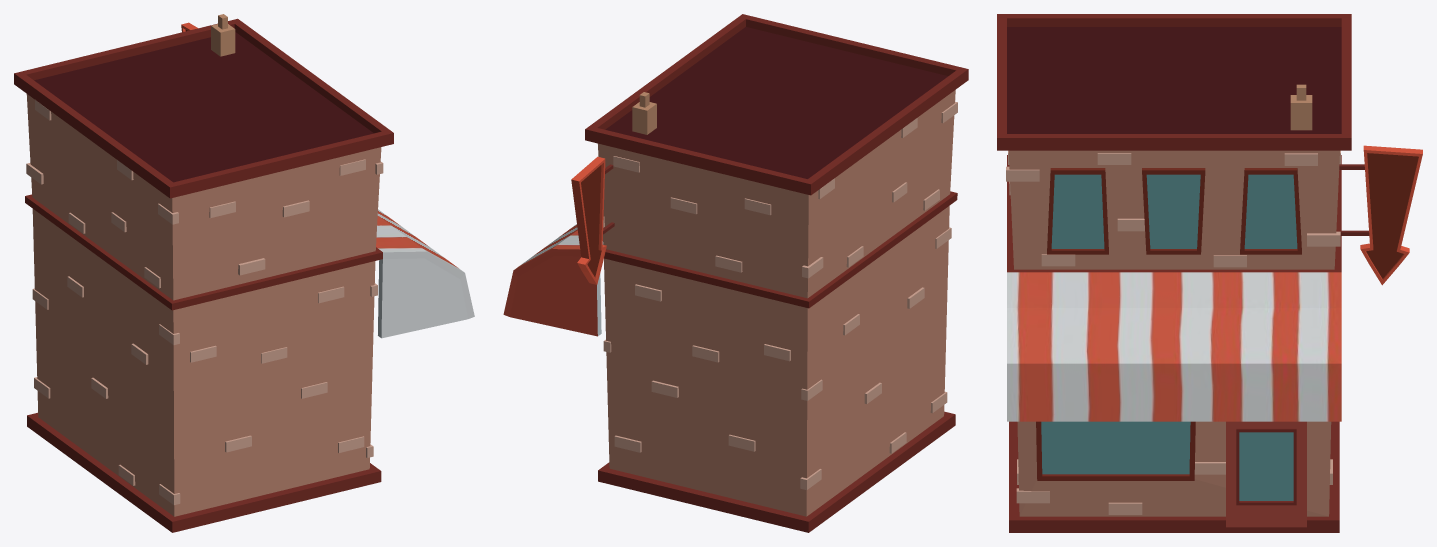
The model's file is Edificio2.fbx.
3 renders of one model, left to right at view 1: azimuth 30°, elevation 25°; view 2: azimuth 150°, elevation 25°; view 3: azimuth 270°, elevation 25°, orthographic. The views are drawn at different scales.
Parts seen in each view (by area): view 1: Cafe, Cloth thing, Bricks; view 2: Cafe, Cloth thing, Bricks, Sign; view 3: Cafe, Cloth thing, Windows, Door, Sign, Bricks.
Part boxes in pixels (bbox=[...]): Cafe: bbox=[14, 14, 393, 532]; Cloth thing: bbox=[376, 209, 474, 338]; Bricks: bbox=[26, 100, 383, 504]; Cafe: bbox=[585, 14, 968, 532]; Cloth thing: bbox=[503, 224, 603, 336]; Bricks: bbox=[603, 101, 957, 490]; Sign: bbox=[571, 156, 614, 284]; Cafe: bbox=[997, 14, 1351, 532]; Cloth thing: bbox=[1007, 272, 1341, 421]; Windows: bbox=[1047, 168, 1301, 254]; Door: bbox=[1226, 421, 1306, 527]; Sign: bbox=[1336, 145, 1422, 285]; Bricks: bbox=[1006, 150, 1340, 514].
Size of the model in its own units: 524 by 613 by 550.
Materials: 2 (2 with a texture image).
